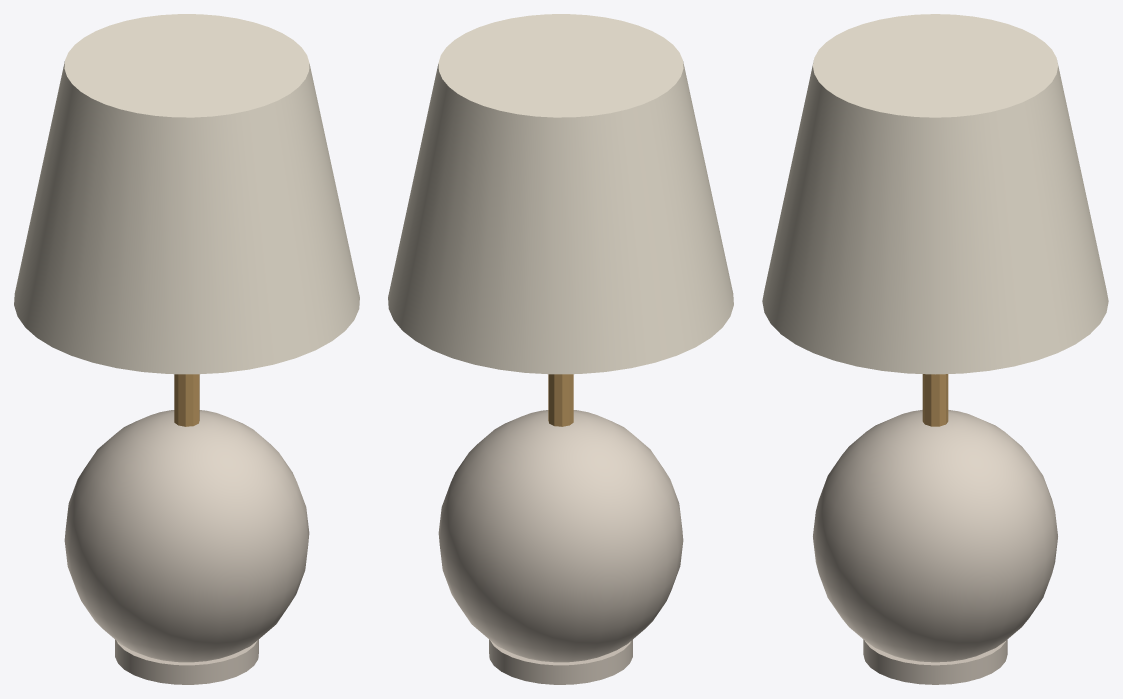
File: lamp_table.glb
3 renders of one model, left to right at view 1: azimuth 30°, elevation 25°; view 2: azimuth 150°, elevation 25°; view 3: azimuth 270°, elevation 25°, orthographic.
Visible parts, largest first — view 1: cyl.002, sphere, cyl, cyl.001; view 2: cyl.002, sphere, cyl, cyl.001; view 3: cyl.002, sphere, cyl, cyl.001.
Boxes of the visible parts, x1,y1,x2,y2 form: cyl.002: (14, 14, 359, 374); sphere: (64, 410, 309, 662); cyl: (115, 639, 258, 684); cyl.001: (174, 374, 199, 426); cyl.002: (388, 14, 733, 374); sphere: (438, 410, 683, 662); cyl: (489, 639, 632, 684); cyl.001: (548, 374, 573, 426); cyl.002: (762, 14, 1108, 374); sphere: (813, 410, 1057, 662); cyl: (863, 639, 1007, 684); cyl.001: (922, 374, 948, 426).
Bounding box in the file's own units: 24 × 45 × 24.
